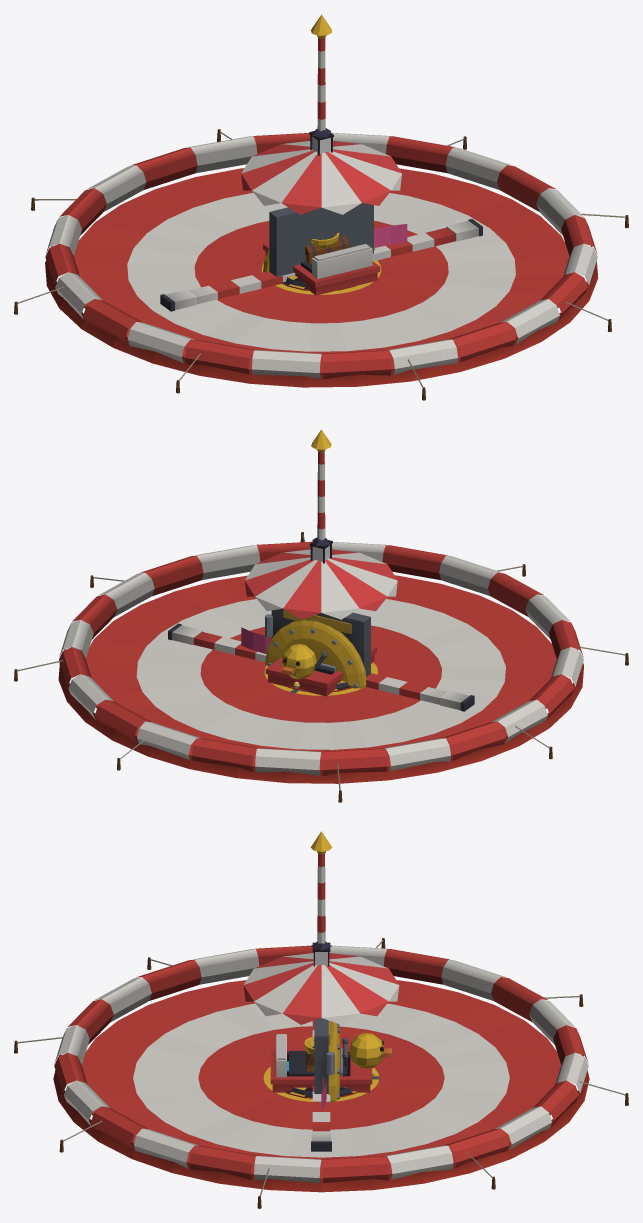
File: street_bits.glb
The picture shows the model from 3 angles, top to bottom: view 1: azimuth 30°, elevation 25°; view 2: azimuth 150°, elevation 25°; view 3: azimuth 270°, elevation 25°; orthographic projection. The views are drawn at different scales.
Visible parts, largest first — view 1: DYN_landing_top, DYN_landing, DYN_umbrella0, DYN_vault_door, DYN_sweeper, DYN_car0, DYN_pole, DYN_flag; view 2: DYN_landing_top, DYN_landing, DYN_umbrella0, DYN_vault_door, DYN_sweeper, DYN_car0, DYN_pole, DYN_flag; view 3: DYN_landing_top, DYN_landing, DYN_umbrella0, DYN_car0, DYN_vault_door, DYN_sweeper, DYN_pole.
Part boxes in pixels (bbox=[...]): DYN_landing_top: bbox=[74, 168, 569, 372]; DYN_landing: bbox=[14, 129, 628, 400]; DYN_umbrella0: bbox=[241, 141, 401, 214]; DYN_vault_door: bbox=[263, 203, 373, 276]; DYN_sweeper: bbox=[160, 219, 482, 311]; DYN_car0: bbox=[263, 242, 380, 295]; DYN_pole: bbox=[311, 14, 332, 131]; DYN_flag: bbox=[374, 224, 407, 249]; DYN_landing_top: bbox=[86, 575, 556, 769]; DYN_landing: bbox=[14, 532, 628, 802]; DYN_umbrella0: bbox=[245, 549, 397, 619]; DYN_vault_door: bbox=[265, 608, 370, 688]; DYN_sweeper: bbox=[168, 623, 474, 711]; DYN_car0: bbox=[265, 644, 376, 696]; DYN_pole: bbox=[311, 429, 331, 540]; DYN_flag: bbox=[241, 627, 271, 653]; DYN_landing_top: bbox=[81, 980, 561, 1178]; DYN_landing: bbox=[14, 938, 628, 1208]; DYN_umbrella0: bbox=[243, 953, 399, 1024]; DYN_car0: bbox=[270, 1033, 391, 1092]; DYN_vault_door: bbox=[314, 1018, 348, 1102]; DYN_sweeper: bbox=[311, 1020, 331, 1151]; DYN_pole: bbox=[310, 831, 332, 943].
Bounding box in the file's own units: 16.97 × 9.55 × 16.97.
